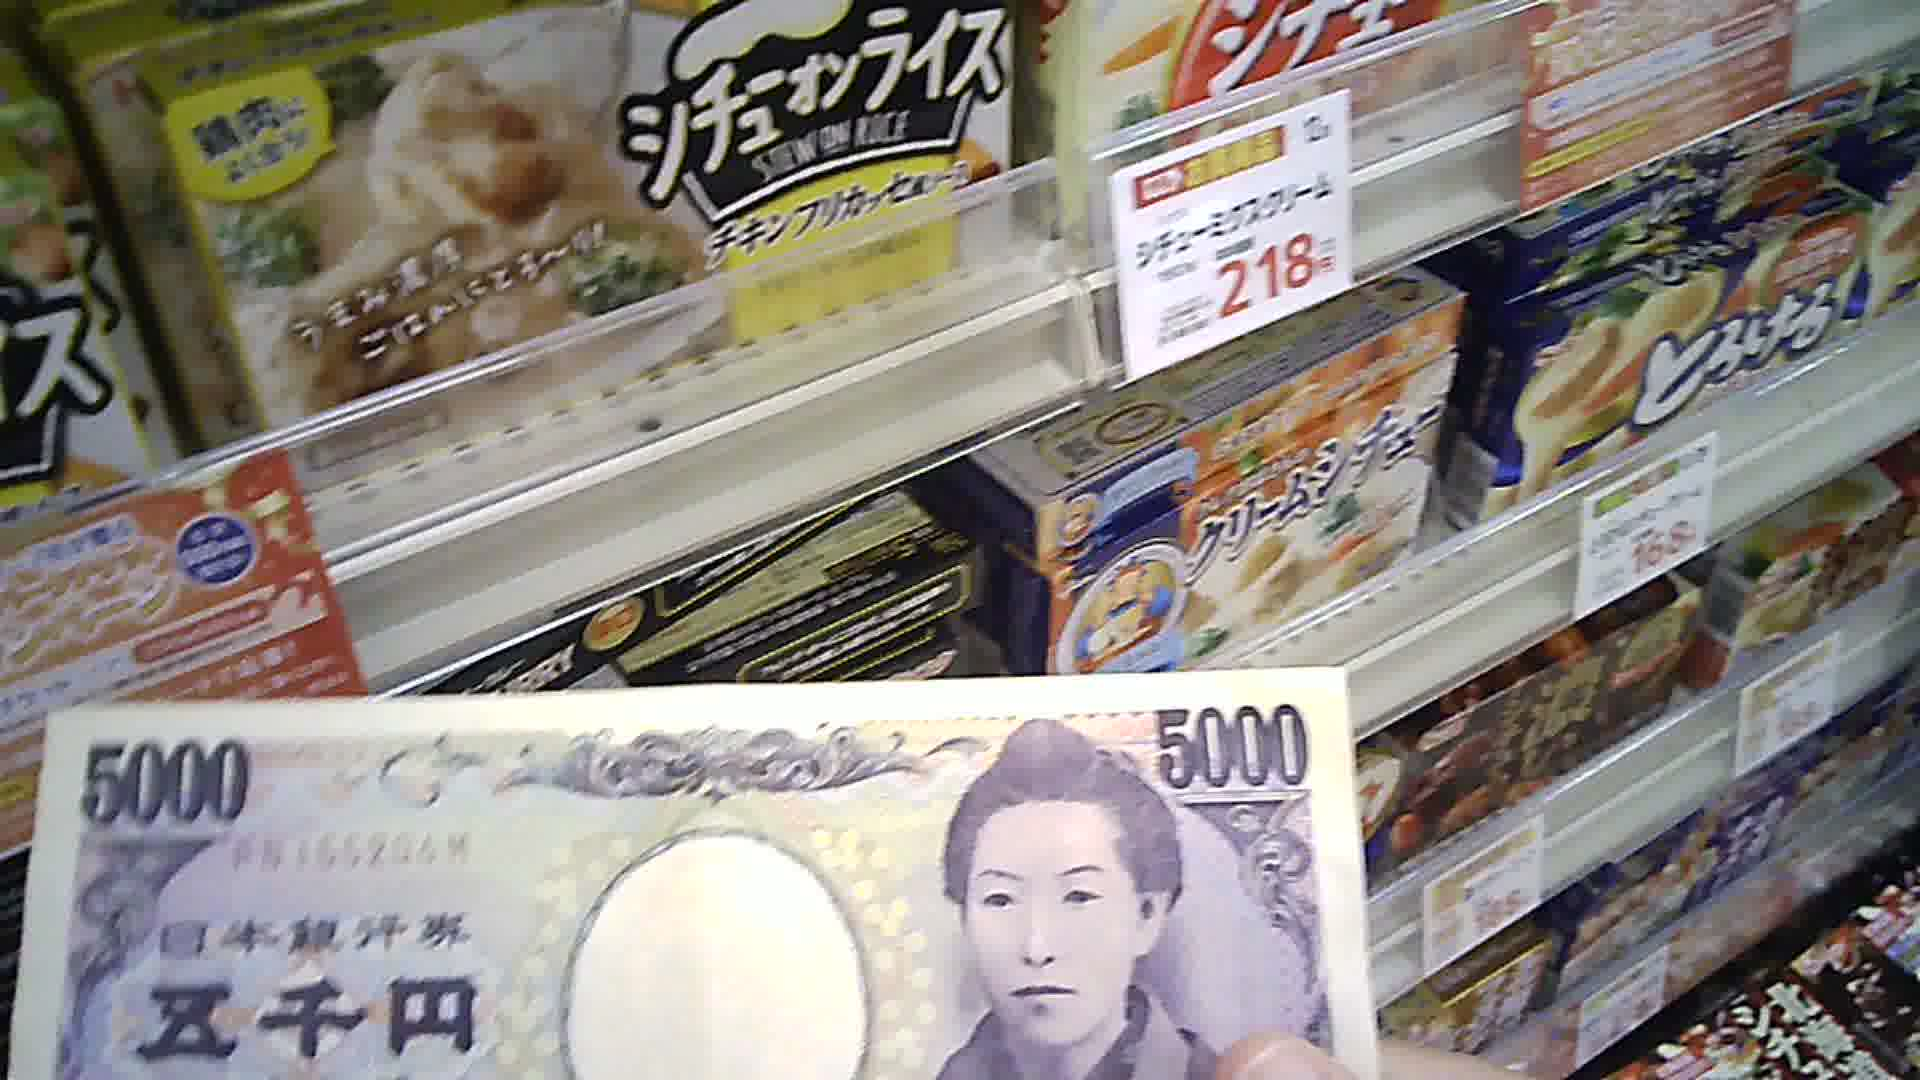5,000 Yen: (15, 669, 1379, 1069)
